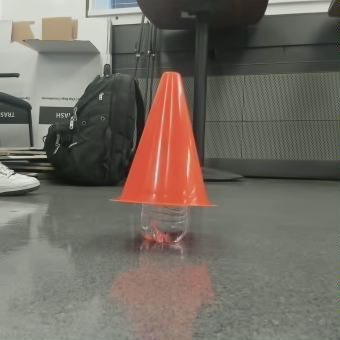Cone: (127, 66, 218, 198)
